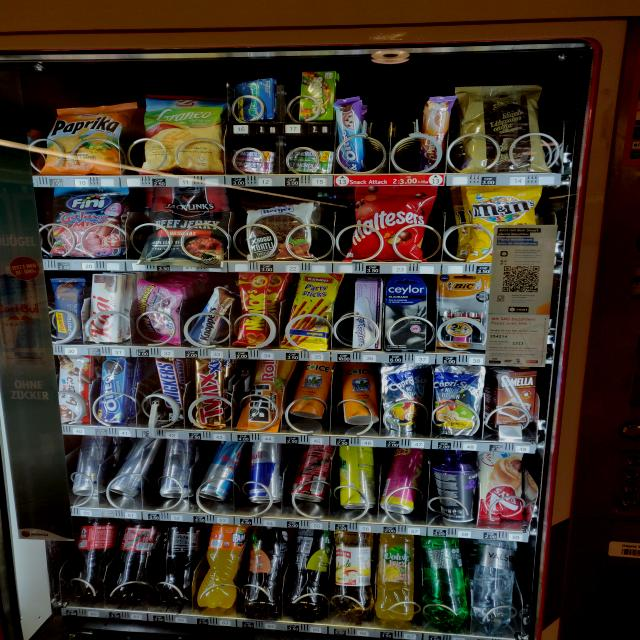7days_croissantschoko_packung_80_1_0000000000003: (474, 452, 530, 524)
airwaves_menthoneucalyptus_riegel_14_1_50173167: (230, 78, 277, 122)
bifi_roll__50__4251097402635: (236, 358, 289, 432)
bueno___43__4008400320328: (56, 352, 95, 426)
c-swiss_dosenabisicetea__33__9120025930135: (290, 360, 337, 421), (344, 360, 381, 428)
caferoyal_classicmacchiato__33__7617014164487: (422, 456, 484, 525)
caprisun_multivitamin__20__4000177605004: (435, 366, 488, 438), (379, 365, 435, 433)
coke__dose_33__54491472: (290, 445, 336, 504)
coke__flasche_50__54491472: (64, 520, 118, 599), (110, 524, 160, 602)
coke_zero_flasche_50__5449000131836: (156, 525, 204, 606)
comella_schokodrink__33__7613100037253: (496, 368, 544, 427)
fanta___50__40822938: (191, 526, 247, 613)
fini_galaxymix_packung_100_1_8410525150364: (44, 185, 134, 257)
fini_jellykisses_packung_80_1_8410525116704: (138, 278, 185, 346)
fuse_lemon__50__5449000235947: (286, 529, 332, 620)
fuse_lemon_dose_33__5449000235947: (330, 448, 378, 512)
fuse_peach__50__5449000236623: (242, 524, 290, 612)
jacklinks_beefjerkyorginal__25__4047751730219: (140, 186, 233, 266)
jlbrichard_gauffrechoko__90__5410495002079: (455, 81, 548, 173)
kagi___50__7610046000259: (85, 269, 126, 343)
knoppers_riegel____4035800488808: (189, 288, 237, 347)
lorenz_nicnacs__40__4018077798818: (239, 271, 275, 349)
malburner_partysticks__40__7610200279682: (280, 272, 340, 351)
maltesers___100__5000159023061: (342, 184, 439, 264)
mnms_gelb__45__40111445: (463, 184, 544, 262)
oreo___66__84100733: (95, 356, 132, 433)
powerbar_proteinplusschoko__55__4029679520028: (47, 274, 91, 345)
ramseier_schorle__50__7610057012456: (327, 533, 379, 614)
redbull___33__90162909: (104, 439, 154, 496), (246, 444, 284, 506), (158, 440, 195, 500), (71, 436, 101, 499)
redbull_light__33__90162800: (197, 443, 241, 505)
skittles_sour_riegel_51_1_0000000000004: (295, 67, 342, 126)
snickers___50__5000159461122: (158, 359, 185, 427)
stimorol_spearmint_riegel_14_1_0000000000005: (289, 150, 332, 172)
stimorol_wildcherry_riegel_14_1_57060330: (231, 149, 274, 174)
tiki_himbeer_brause__50__00000000009342: (382, 449, 427, 516)
twix___50__5000159459228: (194, 357, 230, 431)
valser_classic__50__76404160: (416, 537, 473, 625)
valser_still__50__7610335002575: (468, 539, 520, 629)
volvic_pinapple__50__305764335648: (373, 535, 419, 622)
zweifel_graneochilli__100__7610095184009: (136, 92, 228, 176)
zweifel_paprika__90__7610095013002: (43, 102, 135, 177)
